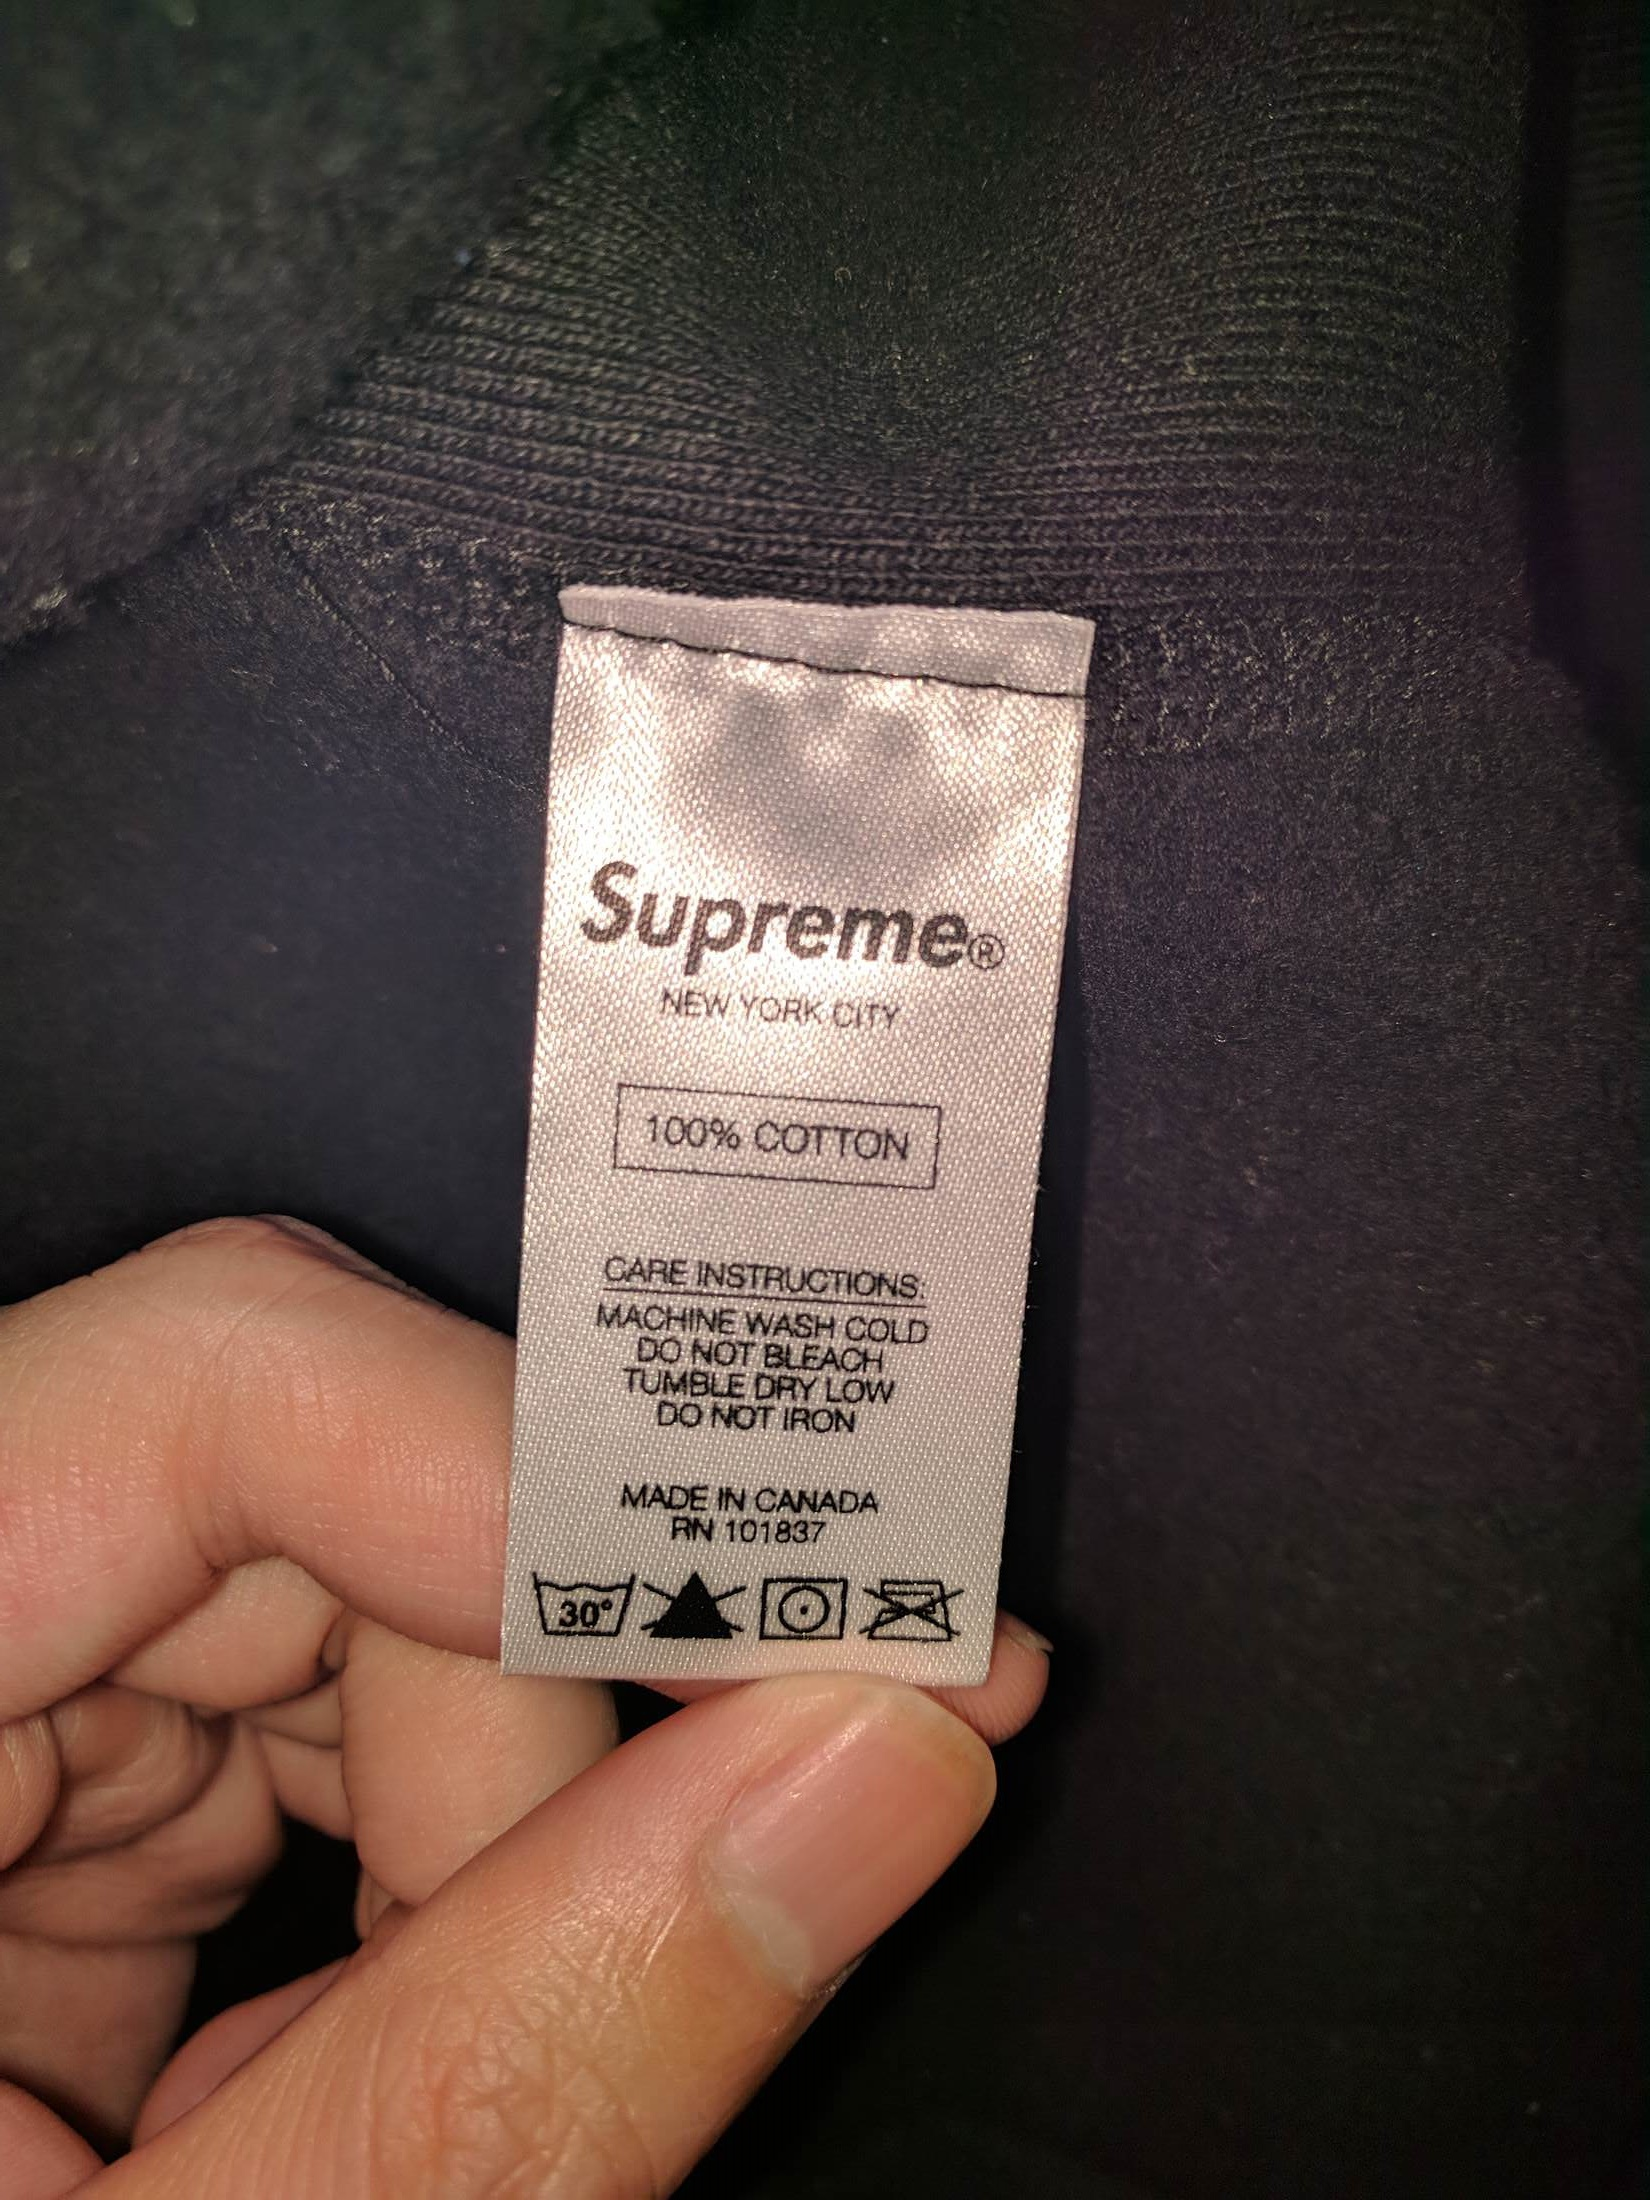do_not_bleach: (643, 1571, 738, 1646)
do_not_iron: (865, 1571, 969, 1653)
